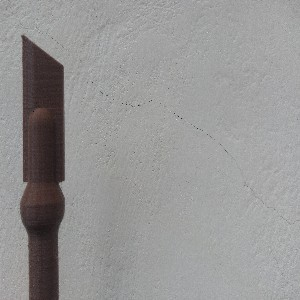cutter: (19, 33, 66, 300)
